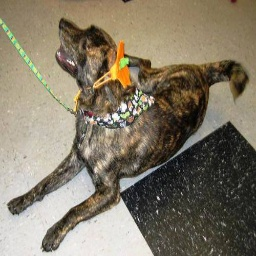dog: (3, 15, 244, 251)
